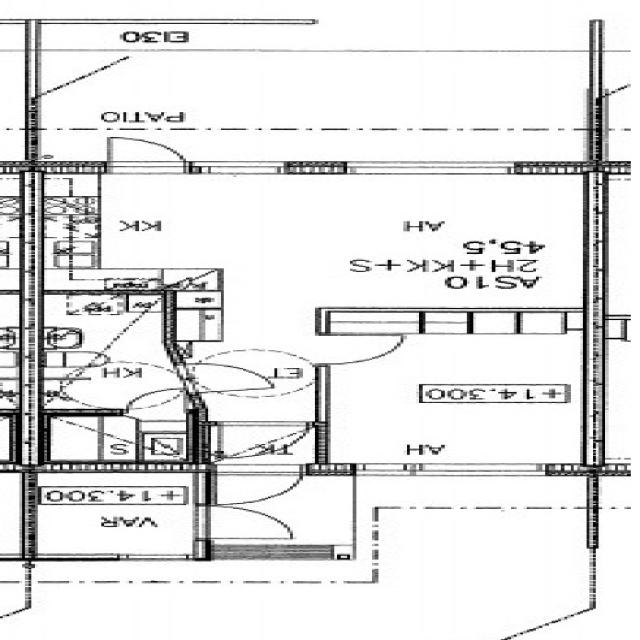door: (181, 349, 315, 397), (192, 499, 306, 545), (203, 462, 308, 507), (202, 419, 312, 461), (301, 331, 417, 368), (99, 133, 195, 174)
window: (366, 460, 558, 480), (340, 158, 527, 178), (107, 550, 205, 566), (192, 160, 289, 175)
zone: (38, 169, 619, 311), (314, 309, 592, 473), (30, 291, 184, 414), (22, 472, 209, 560), (32, 410, 186, 464), (28, 468, 205, 504), (206, 420, 312, 460)
